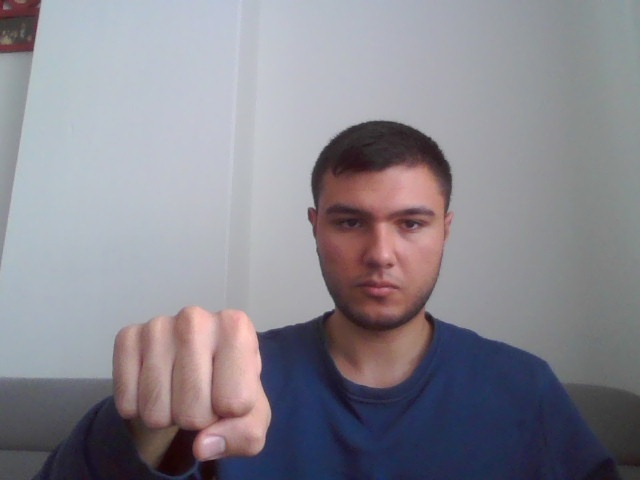yes: (111, 305, 275, 460)
